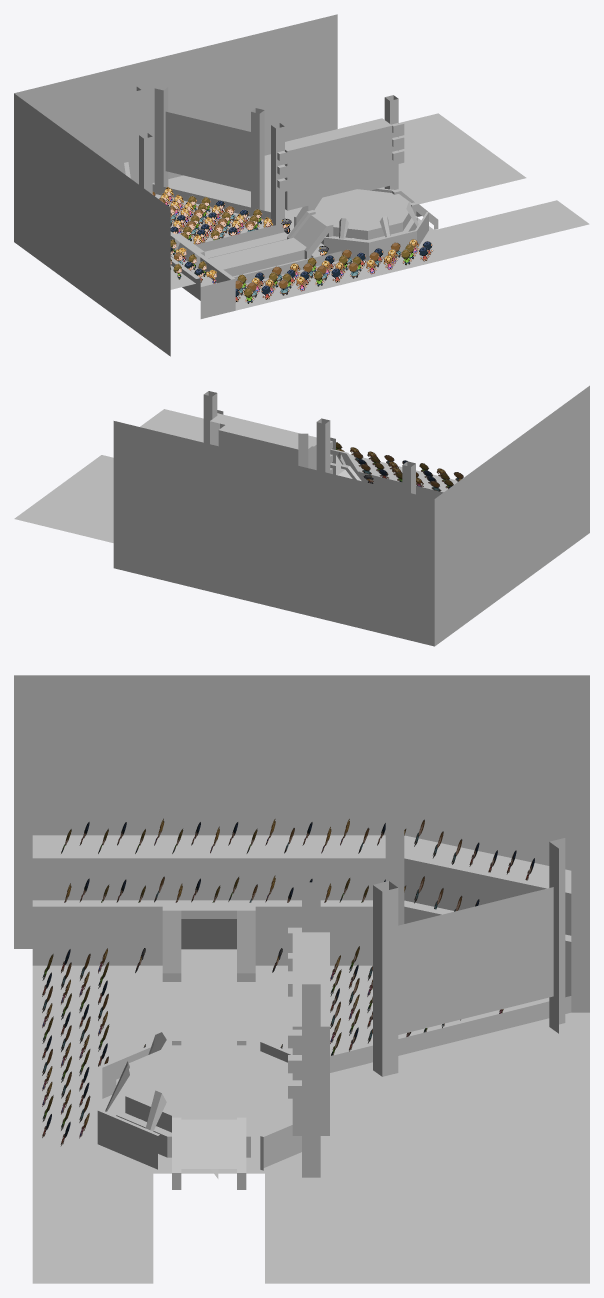
Rendered from PKMN-WT1-2.obj.
The picture shows the model from 3 angles, top to bottom: view 1: azimuth 30°, elevation 25°; view 2: azimuth 150°, elevation 25°; view 3: azimuth 270°, elevation 25°; orthographic projection. The views are drawn at different scales.
Visible parts, largest first — view 1: in79yuka01_lay0_QUADS_VisGroup0, in79tou01_lay0_QUADS_VisGroup0, in79tv_anim1_lay0_QUADS_VisGroup0, in79tv_anim2_lay0_QUADS_VisGroup0, in79_fan2_lay0_QUADS_VisGroup0, in79_fan1_lay0_QUADS_VisGroup0, in79tv01_lay0_QUADS_VisGroup0, in79yuka02_lay0_QUADS_VisGroup0, in79saku01_lay0_QUADS_VisGroup0, in79ami01_lay0_QUADS_VisGroup0, in79ring01_lay0_QUADS_VisGroup0, in79_e_lay0_QUADS_VisGroup0 (+6 smaller); view 2: in79yuka01_lay0_QUADS_VisGroup0, in79tv01_lay0_QUADS_VisGroup0, in79tou01_lay0_QUADS_VisGroup0, in79_fan2_lay0_QUADS_VisGroup0, in79saku01_lay0_QUADS_VisGroup0, in79yuka01_lay0_TRIS_VisGroup0; view 3: in79yuka01_lay0_QUADS_VisGroup0, in79kabe01_lay0_QUADS_VisGroup0, in79tou01_lay0_QUADS_VisGroup0, in79tv_anim1_lay0_QUADS_VisGroup0, in79yuka01_lay0_TRIS_VisGroup0, in79yuka02_lay0_QUADS_VisGroup0, in79ami01_lay0_QUADS_VisGroup0, in79_e_lay0_QUADS_VisGroup0, in79kaidan01_lay0_QUADS_VisGroup0, in79tv01_lay0_QUADS_VisGroup0, in79ring01_lay0_QUADS_VisGroup0, in79_fan2_lay0_QUADS_VisGroup0 (+6 smaller).
Part boxes in pixels (x1,y1,x2,y2): in79yuka01_lay0_QUADS_VisGroup0: (14, 14, 589, 356); in79tou01_lay0_QUADS_VisGroup0: (132, 87, 398, 225); in79tv_anim1_lay0_QUADS_VisGroup0: (165, 111, 250, 191); in79tv_anim2_lay0_QUADS_VisGroup0: (296, 134, 383, 201); in79_fan2_lay0_QUADS_VisGroup0: (235, 239, 433, 303); in79_fan1_lay0_QUADS_VisGroup0: (152, 187, 273, 244); in79tv01_lay0_QUADS_VisGroup0: (285, 118, 392, 210); in79yuka02_lay0_QUADS_VisGroup0: (205, 236, 318, 277); in79saku01_lay0_QUADS_VisGroup0: (152, 184, 341, 283); in79ami01_lay0_QUADS_VisGroup0: (294, 188, 428, 260); in79ring01_lay0_QUADS_VisGroup0: (314, 189, 416, 239); in79_e_lay0_QUADS_VisGroup0: (325, 194, 400, 225); in79yuka01_lay0_QUADS_VisGroup0: (14, 385, 589, 646); in79tv01_lay0_QUADS_VisGroup0: (210, 414, 316, 469); in79tou01_lay0_QUADS_VisGroup0: (203, 391, 415, 494); in79_fan2_lay0_QUADS_VisGroup0: (336, 442, 463, 491); in79saku01_lay0_QUADS_VisGroup0: (360, 472, 443, 498); in79yuka01_lay0_TRIS_VisGroup0: (62, 525, 113, 542); in79yuka01_lay0_QUADS_VisGroup0: (14, 675, 589, 1283); in79kabe01_lay0_QUADS_VisGroup0: (32, 854, 571, 997); in79tou01_lay0_QUADS_VisGroup0: (302, 784, 589, 1177); in79tv_anim1_lay0_QUADS_VisGroup0: (398, 887, 553, 1034); in79yuka01_lay0_TRIS_VisGroup0: (442, 1012, 589, 1240); in79yuka02_lay0_QUADS_VisGroup0: (153, 949, 264, 1050); in79ami01_lay0_QUADS_VisGroup0: (97, 1041, 301, 1170); in79_e_lay0_QUADS_VisGroup0: (144, 1053, 273, 1107); in79kaidan01_lay0_QUADS_VisGroup0: (172, 1035, 246, 1189); in79tv01_lay0_QUADS_VisGroup0: (292, 932, 329, 1135); in79ring01_lay0_QUADS_VisGroup0: (125, 1045, 292, 1132); in79_fan2_lay0_QUADS_VisGroup0: (42, 948, 109, 1146).
Bounding box in the file's own units: 776 × 260 × 496.
